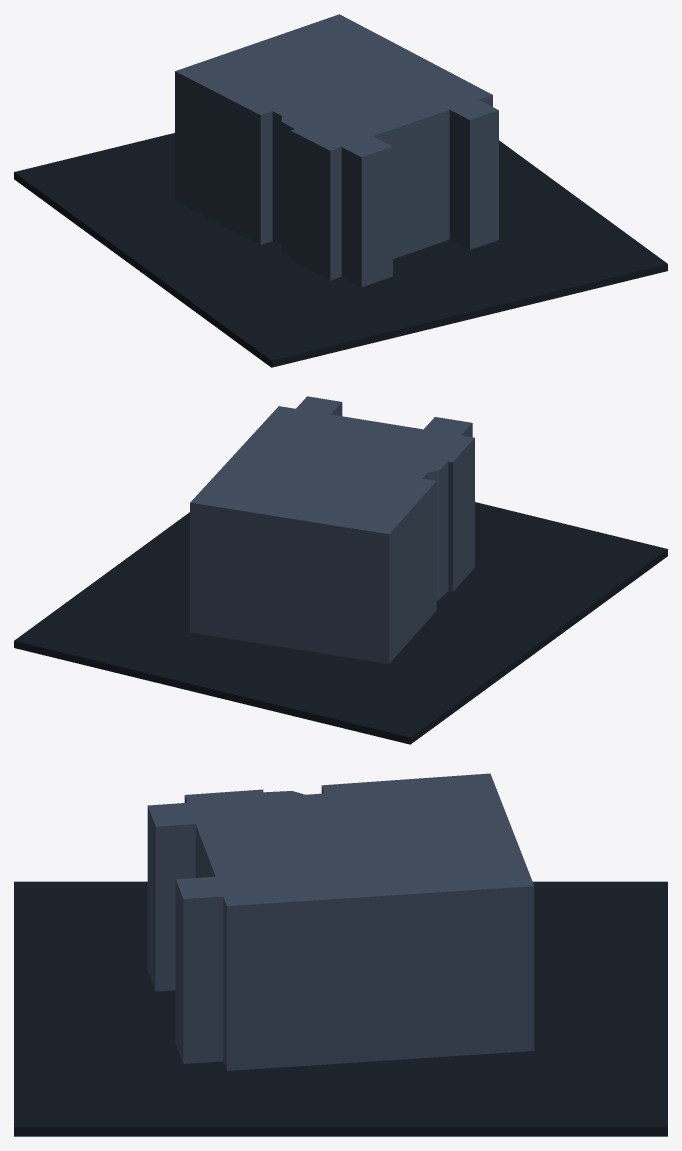
File: sf-1244030-assembled.glb
3 views of the same model, one above another, from view 1: azimuth 30°, elevation 25°; view 2: azimuth 150°, elevation 25°; view 3: azimuth 270°, elevation 25° (orthographic). The views are drawn at different scales.
Visible parts, largest first — view 1: Ground, Floor 3, Floor 1, Floor 2; view 2: Ground, Floor 3, Floor 2, Floor 1; view 3: Ground, Floor 3, Floor 1, Floor 2.
Part boxes in pixels (left/top/right/bottom): Ground: left=14, top=133, right=667, bottom=367; Floor 3: left=175, top=14, right=498, bottom=200; Floor 1: left=175, top=158, right=498, bottom=286; Floor 2: left=175, top=114, right=498, bottom=243; Ground: left=14, top=502, right=667, bottom=744; Floor 3: left=190, top=396, right=474, bottom=577; Floor 2: left=190, top=481, right=474, bottom=620; Floor 1: left=190, top=524, right=474, bottom=663; Ground: left=14, top=881, right=667, bottom=1136; Floor 3: left=147, top=773, right=534, bottom=960; Floor 1: left=147, top=916, right=534, bottom=1070; Floor 2: left=147, top=861, right=534, bottom=1015.
Bounding box in the file's own units: 0.116 × 0.0383 × 0.1305.
